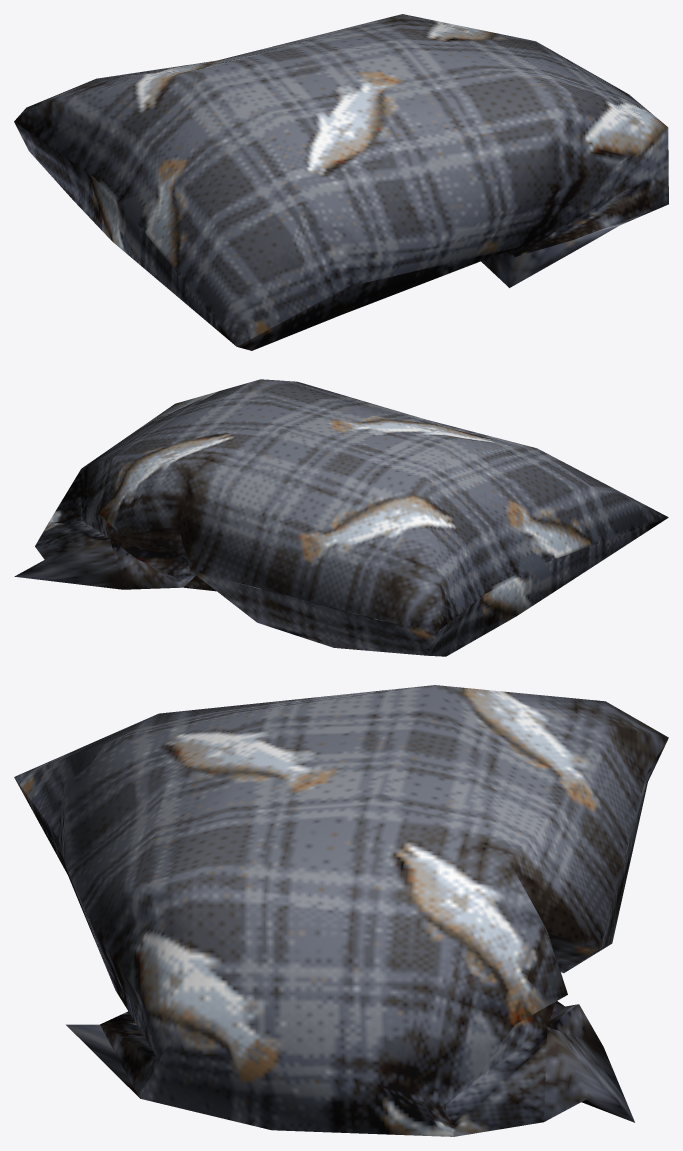
The model's file is pillow.fbx.
3 renders of one model, top to bottom at view 1: azimuth 30°, elevation 25°; view 2: azimuth 150°, elevation 25°; view 3: azimuth 270°, elevation 25°, orthographic. The views are drawn at different scales.
Parts seen in each view (by area): view 1: pillow_low; view 2: pillow_low; view 3: pillow_low.
Boxes of the visible parts, box(x1,y1,x2,y2) form: pillow_low: box(14, 14, 668, 350); pillow_low: box(14, 379, 668, 656); pillow_low: box(14, 685, 668, 1136).
Bounding box in the file's own units: 107 × 34.26 × 86.81.
